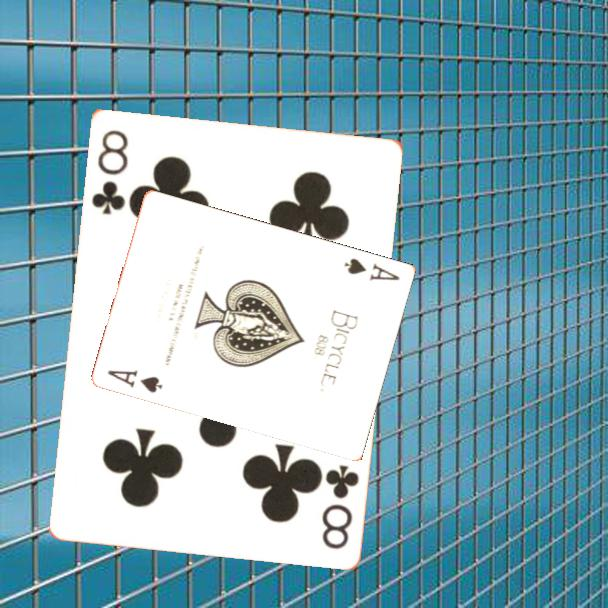c08: (318, 460, 362, 552), (87, 126, 131, 217)
s01: (341, 254, 403, 284), (105, 366, 166, 396)
